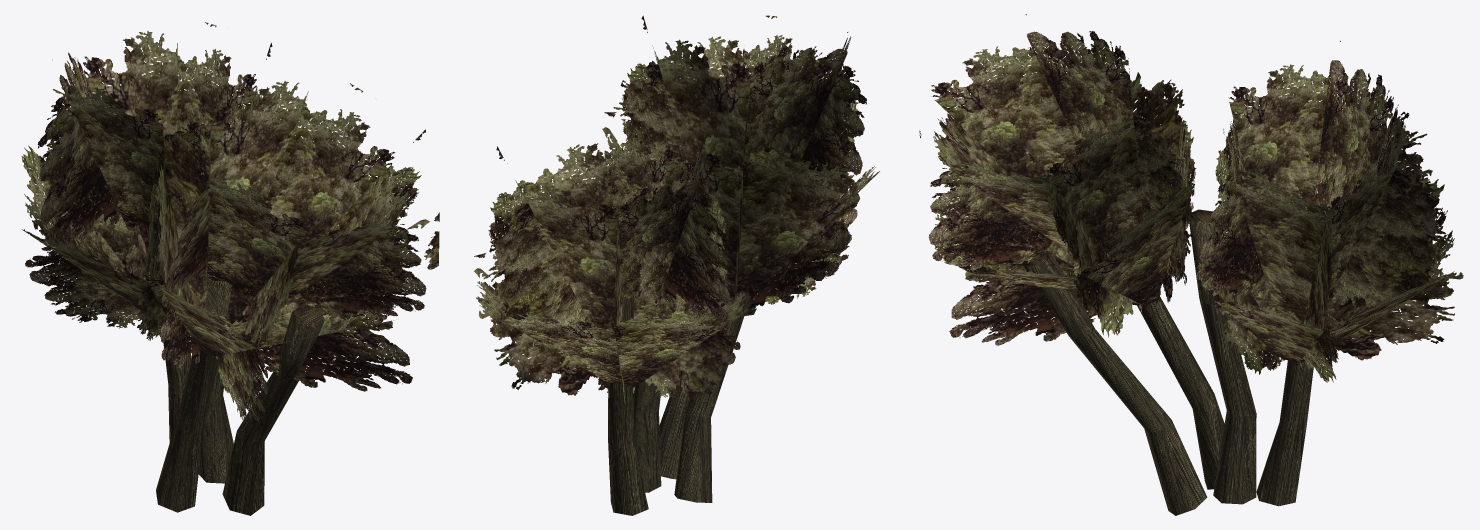
The model's file is OW_LOB_TREEGROUP_V2.glb.
The picture shows the model from 3 angles, left to right: view 1: azimuth 30°, elevation 25°; view 2: azimuth 150°, elevation 25°; view 3: azimuth 270°, elevation 25°; orthographic projection. The views are drawn at different scales.
Parts seen in each view (by area): view 1: Mesh; view 2: Mesh; view 3: Mesh.
Part boxes in pixels (x1,y1,x2,y2): Mesh: [21, 22, 439, 515]; Mesh: [474, 15, 879, 515]; Mesh: [919, 14, 1463, 515].
Size of the model in its own units: 8.36 by 12.66 by 13.58.
2 materials, 2 textured.
